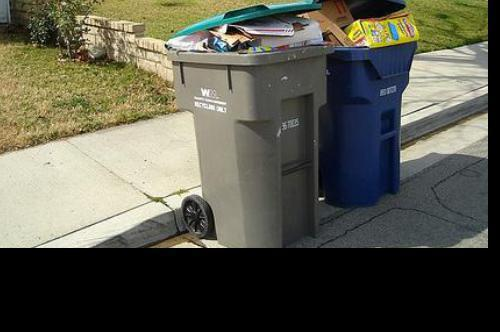Bote de Basura: (183, 2, 327, 258), (287, 0, 404, 209)
